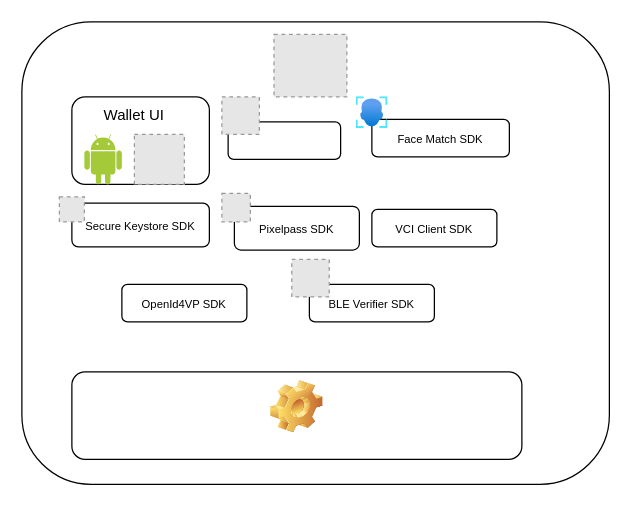
This 631x506 diagram has some shape labels left out. Grey dashed boxes stand in for pictures. The shapes that lost their labels are listed below. From the top down, each one's centre as x and y in pixels, then its label:
pixel 284 140: Tuvali SDK
pixel 296 415: Mimoto - BFF
